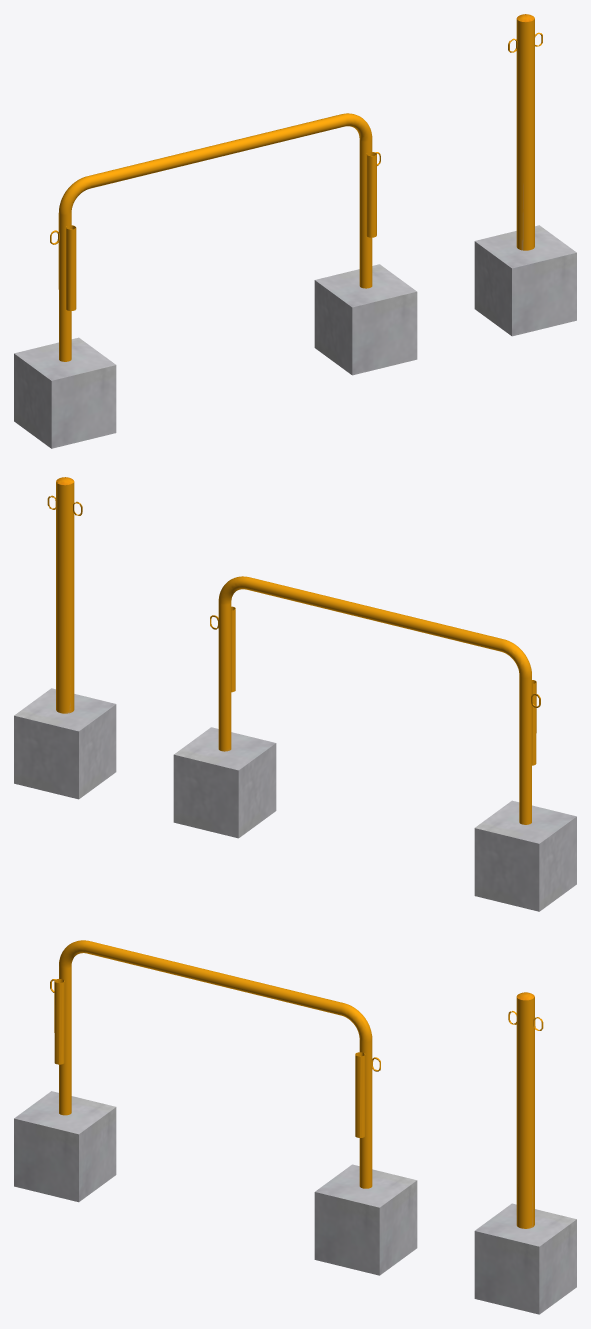
Rendered from bollard_u.glb.
The picture shows the model from 3 angles, top to bottom: view 1: azimuth 30°, elevation 25°; view 2: azimuth 150°, elevation 25°; view 3: azimuth 330°, elevation 25°; orthographic projection.
Visible parts, largest first — view 1: mesh; view 2: mesh; view 3: mesh.
Part boxes in pixels (box(x1,y1,x2,y2)): mesh: box(14, 14, 576, 448); mesh: box(14, 477, 576, 911); mesh: box(14, 940, 576, 1314).
Bounding box in the file's own units: 1.7 × 0.925 × 0.2103.
1 material, 1 textured.
